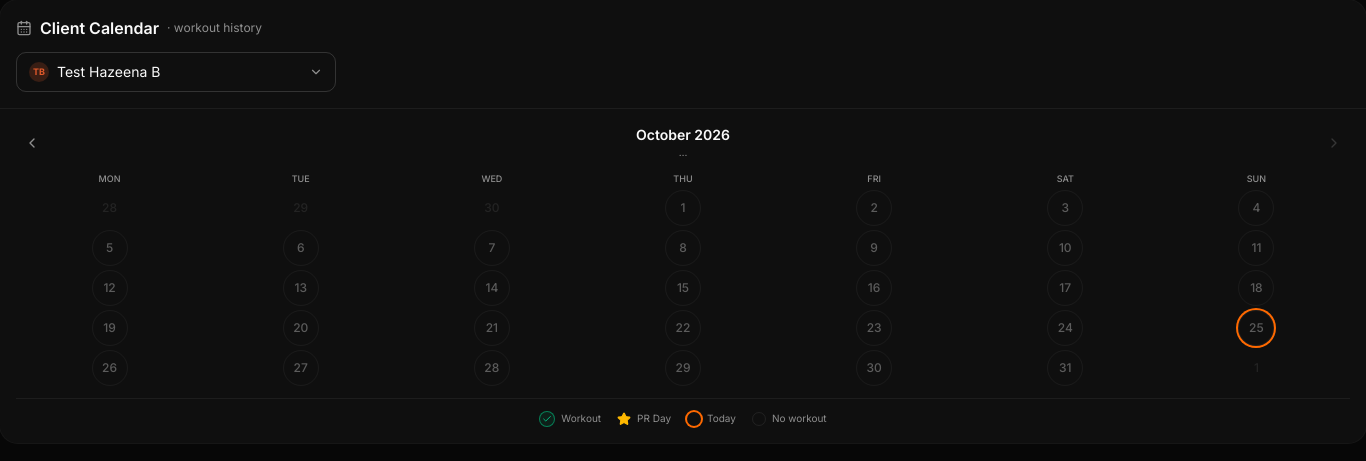
it: ClientWorkoutCalendar client picker › re-scopes the calendar to the client picked from the dropdown
This screenshot has width=1366, height=461.
What coordinates should you click on to do the following:
click the button "TB Test Hazeena B"
I would click on:
 (109, 72)
Its box is x1=16 y1=52 x2=336 y2=92.
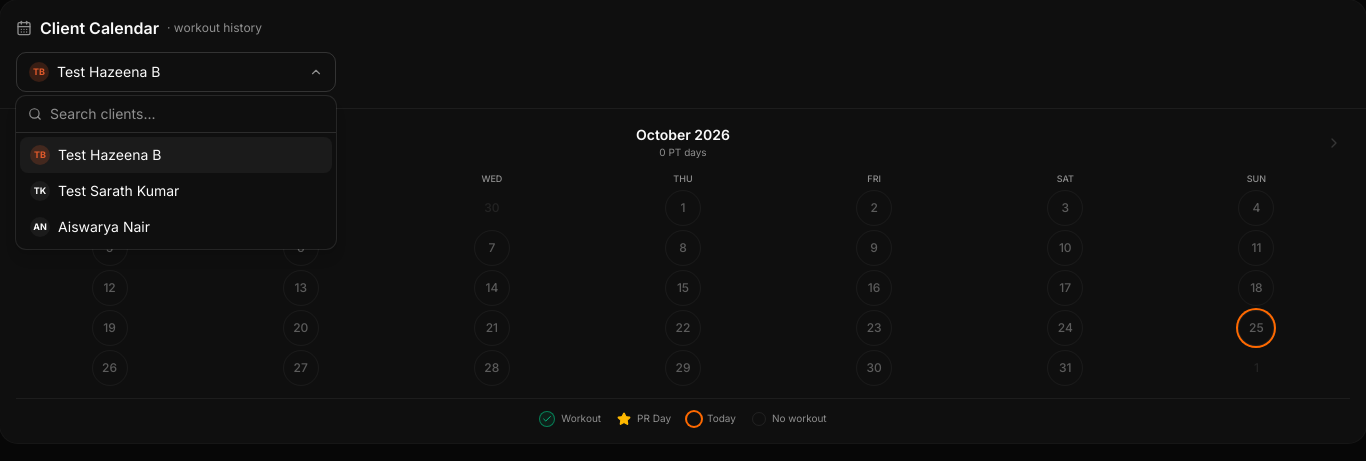
What coordinates should you click on to do the following:
click the option "AN Aiswarya Nair"
I would click on:
 (104, 226)
Its box is x1=20 y1=209 x2=332 y2=245.
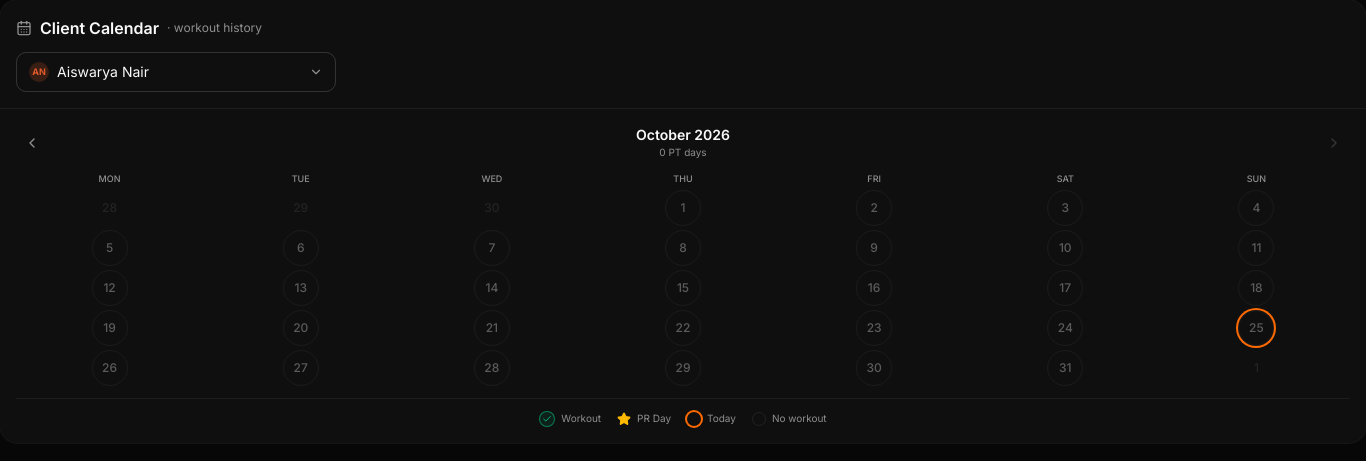
Now the button "AN Aiswarya Nair" is shown, box x1=16 y1=52 x2=336 y2=92
